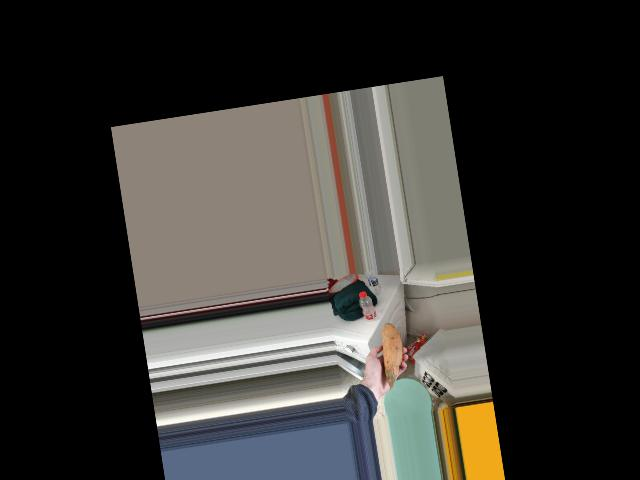sweet_potato: (378, 327, 408, 386)
